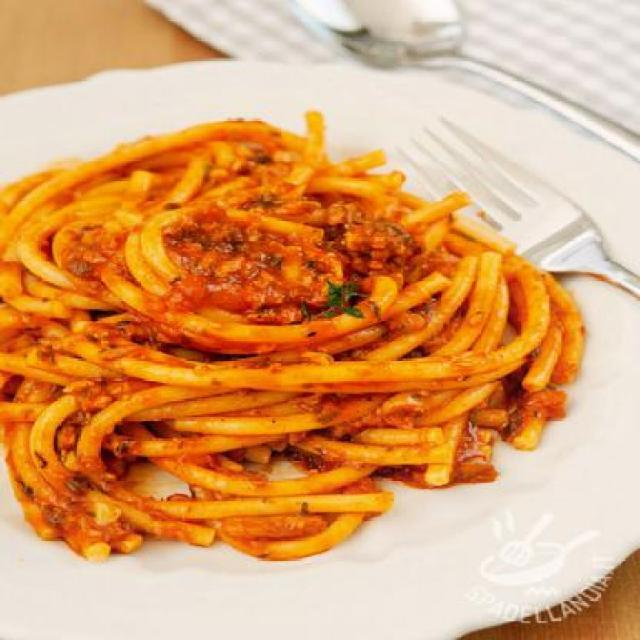Pasta al ragu: (2, 114, 582, 554)
